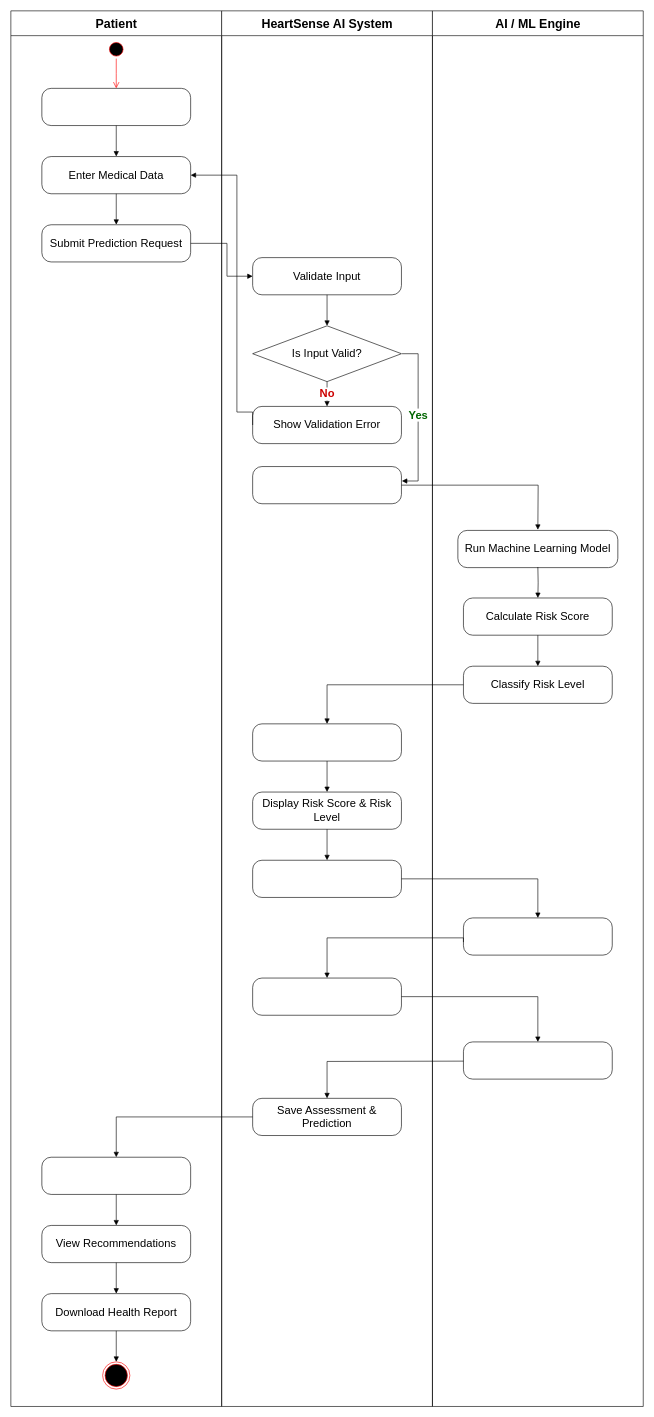
The diagram is 654 pixels wide and 1417 high, and some of its shapes have lost their labels. Each missing label, with the centre of its shape:
"AI Recommendation Engine" goes at point 537,1060.
"Generate AI Explanation" goes at point 326,878.
"Generate Personalized Recommendations" goes at point 326,996.
"Generate SHAP / LIME Explanation" goes at point 537,936.
"Preprocess Medical Data" goes at point 326,485.
"Receive Prediction" goes at point 326,742.
"Register / Login" goes at point 116,107.
"View Prediction & Risk" goes at point 116,1175.
